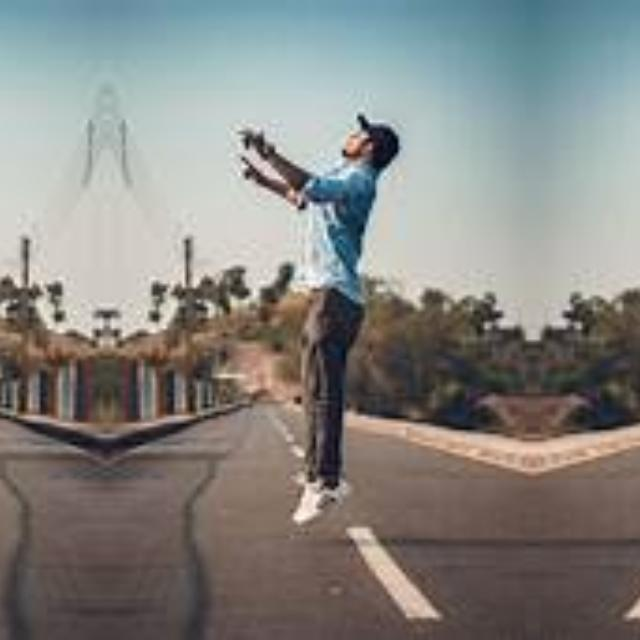person: (217, 64, 421, 536)
